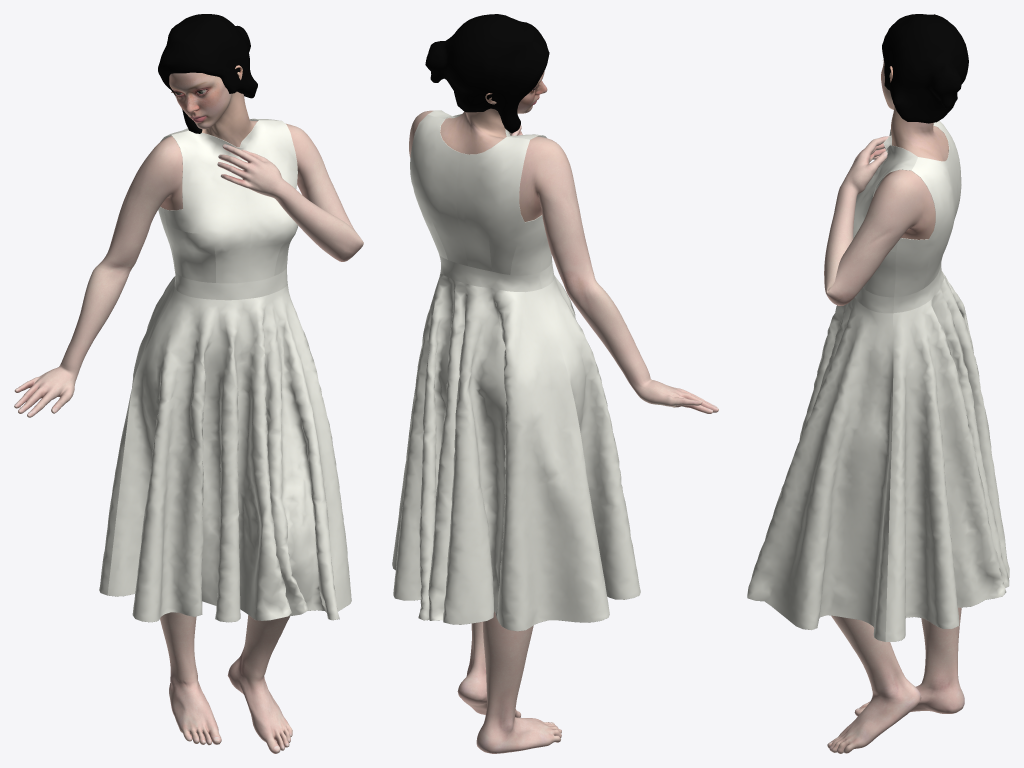
The model's file is Custom_View_4__Dramatic.obj.
3 views of the same model, side by side, from view 1: azimuth 30°, elevation 25°; view 2: azimuth 150°, elevation 25°; view 3: azimuth 270°, elevation 25° (orthographic). The views are drawn at different scales.
Bounding box in the file's own units: 817 × 1767 × 585.
